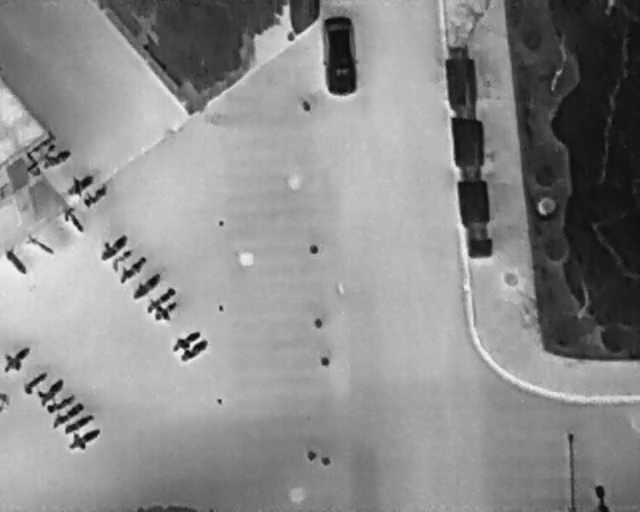Bicycle: (111, 249, 152, 287), (62, 420, 105, 456), (0, 340, 38, 379), (31, 371, 69, 410), (59, 166, 99, 202), (126, 268, 166, 303), (47, 397, 88, 431), (93, 229, 132, 264), (167, 323, 205, 358), (20, 228, 59, 261), (141, 283, 179, 316), (148, 294, 184, 328), (36, 140, 73, 173), (176, 335, 212, 367), (0, 243, 32, 278), (78, 181, 113, 212), (20, 364, 52, 397), (40, 390, 80, 416), (59, 203, 89, 237), (60, 409, 97, 436), (107, 245, 136, 272)
Car: (318, 13, 360, 99)
